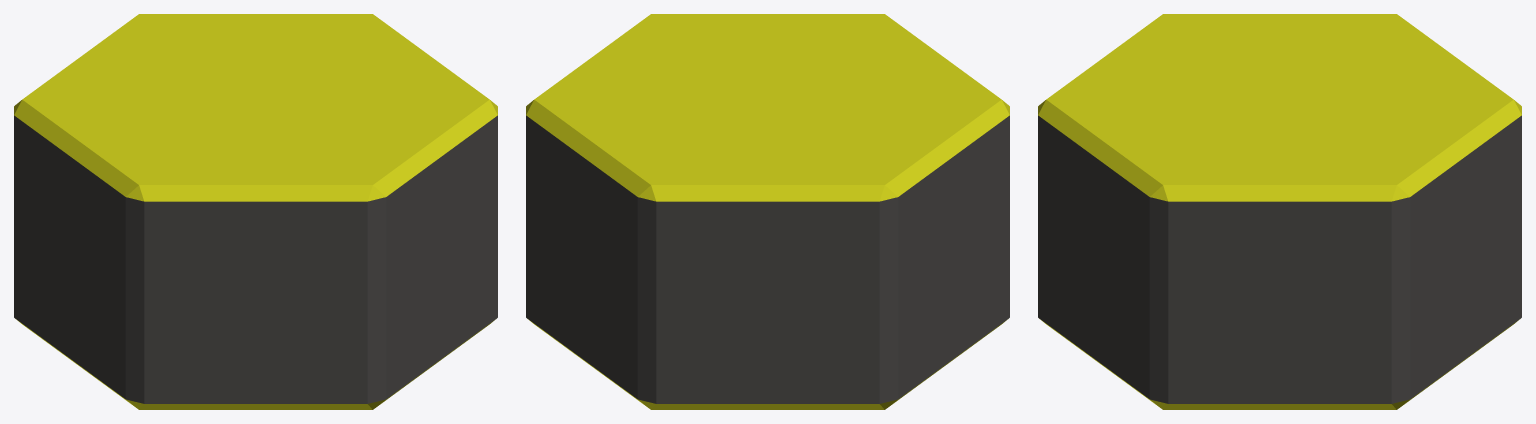
File: BaseHex_Yellow.fbx
3 renders of one model, left to right at view 1: azimuth 30°, elevation 25°; view 2: azimuth 150°, elevation 25°; view 3: azimuth 270°, elevation 25°, orthographic.
Visible parts, largest first — view 1: 08.Yellow; view 2: 08.Yellow; view 3: 08.Yellow.
Boxes of the visible parts, left/top/right/bottom form: 08.Yellow: left=14, top=14, right=497, bottom=409; 08.Yellow: left=526, top=14, right=1009, bottom=409; 08.Yellow: left=1038, top=14, right=1521, bottom=409.
Size of the model in its own units: 173 by 100 by 195.
1 material, 1 textured.
